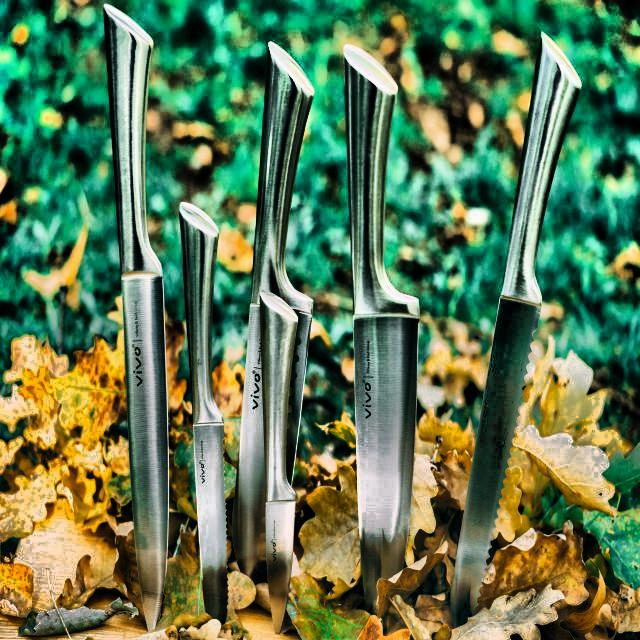knife: (445, 29, 587, 615), (235, 32, 322, 589), (341, 34, 422, 604), (104, 0, 176, 631), (175, 193, 235, 629), (258, 286, 306, 622)
